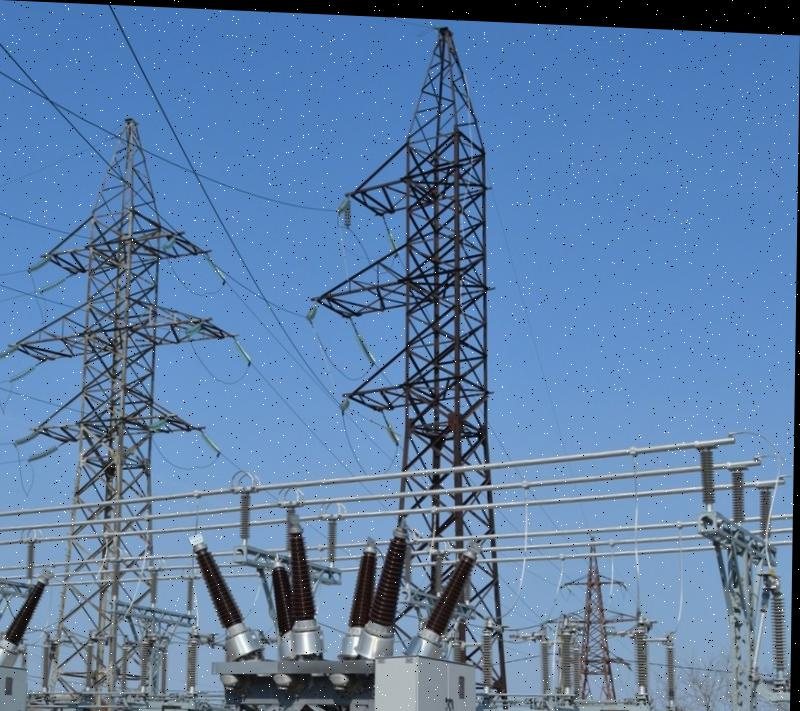tower: (314, 19, 539, 688), (18, 120, 198, 642)
